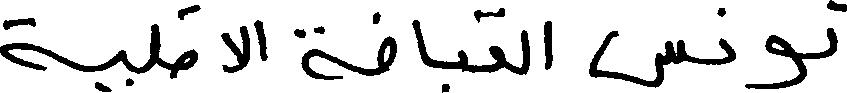X: (589, 26, 683, 92), (750, 30, 803, 92), (0, 13, 52, 75), (303, 21, 346, 84), (175, 0, 195, 82), (224, 21, 248, 77), (828, 0, 846, 61), (379, 9, 394, 79), (492, 3, 502, 76), (414, 15, 427, 70), (722, 3, 733, 68), (256, 15, 266, 65), (151, 19, 160, 72), (545, 16, 551, 74), (522, 25, 528, 79), (117, 45, 125, 70), (459, 45, 465, 76)
